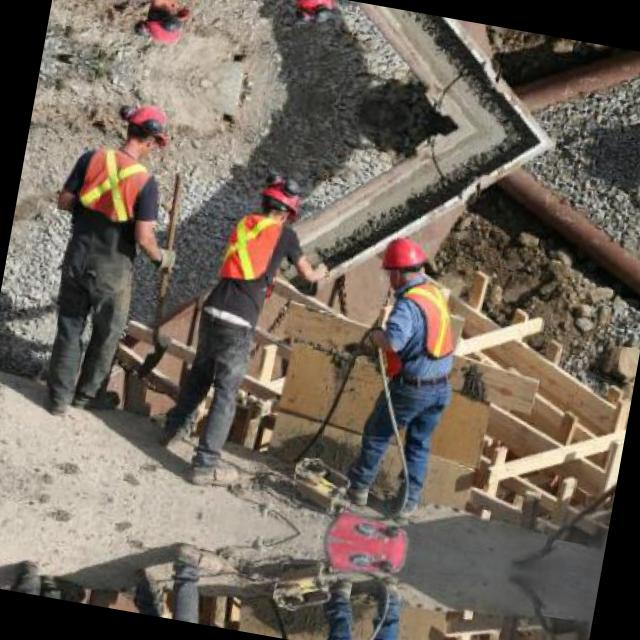helmet: (119, 96, 177, 159), (376, 230, 438, 288), (250, 168, 306, 228), (137, 0, 195, 53), (283, 0, 337, 29)
